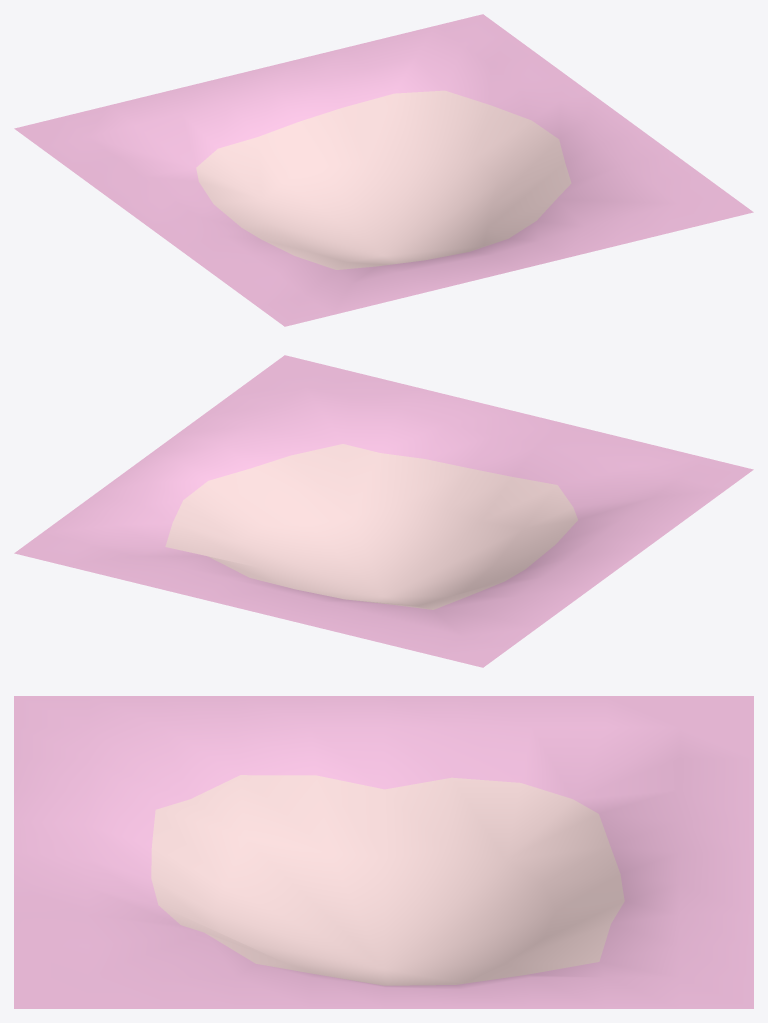
The model's file is pound_1.fbx.
3 views of the same model, one above another, from view 1: azimuth 30°, elevation 25°; view 2: azimuth 150°, elevation 25°; view 3: azimuth 270°, elevation 25° (orthographic). The views are drawn at different scales.
Visible parts, largest first — view 1: Pond; view 2: Pond; view 3: Pond.
Part boxes in pixels (box(x1,y1,x2,y2)): Pond: box(14, 14, 753, 326); Pond: box(14, 355, 753, 667); Pond: box(14, 696, 753, 1008).
Size of the model in its own units: 1563 by 271 by 1563.
Materials: 1 (1 with a texture image).
